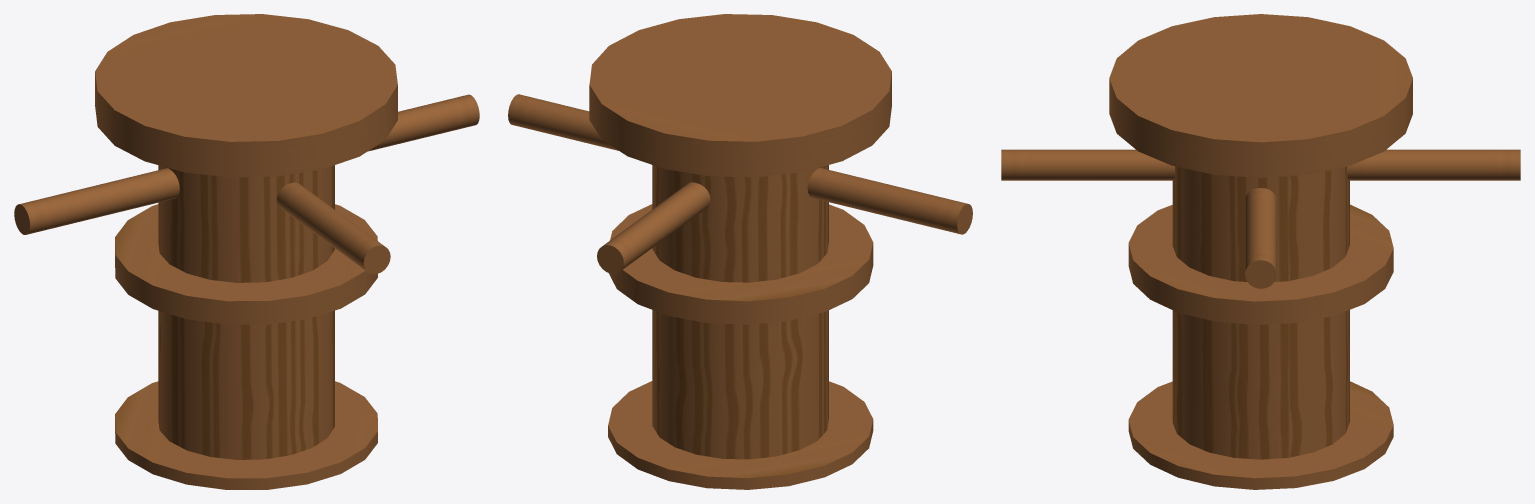
File: windmill_handle (1).fbx
3 views of the same model, side by side, from view 1: azimuth 30°, elevation 25°; view 2: azimuth 150°, elevation 25°; view 3: azimuth 270°, elevation 25° (orthographic).
Parts seen in each view (by area): view 1: polySurface39; view 2: polySurface39; view 3: polySurface39.
Part boxes in pixels (x1=…): polySurface39: x1=14, y1=14, x2=479, y2=489; polySurface39: x1=508, y1=14, x2=972, y2=489; polySurface39: x1=1001, y1=14, x2=1520, y2=489.
Size of the model in its own units: 1001 by 758 by 1003.
1 material, 1 textured.
